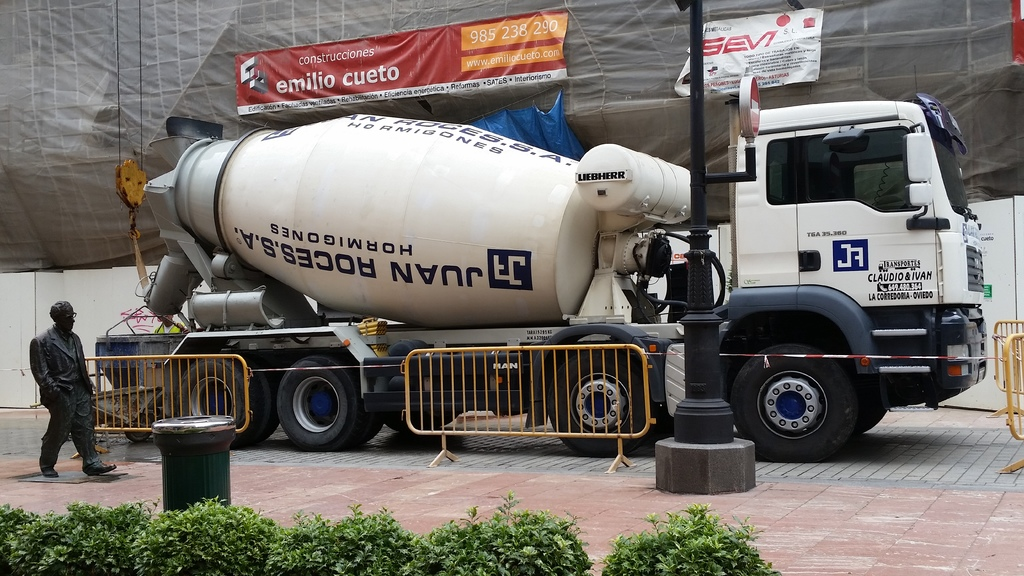truck: (88, 77, 998, 462)
